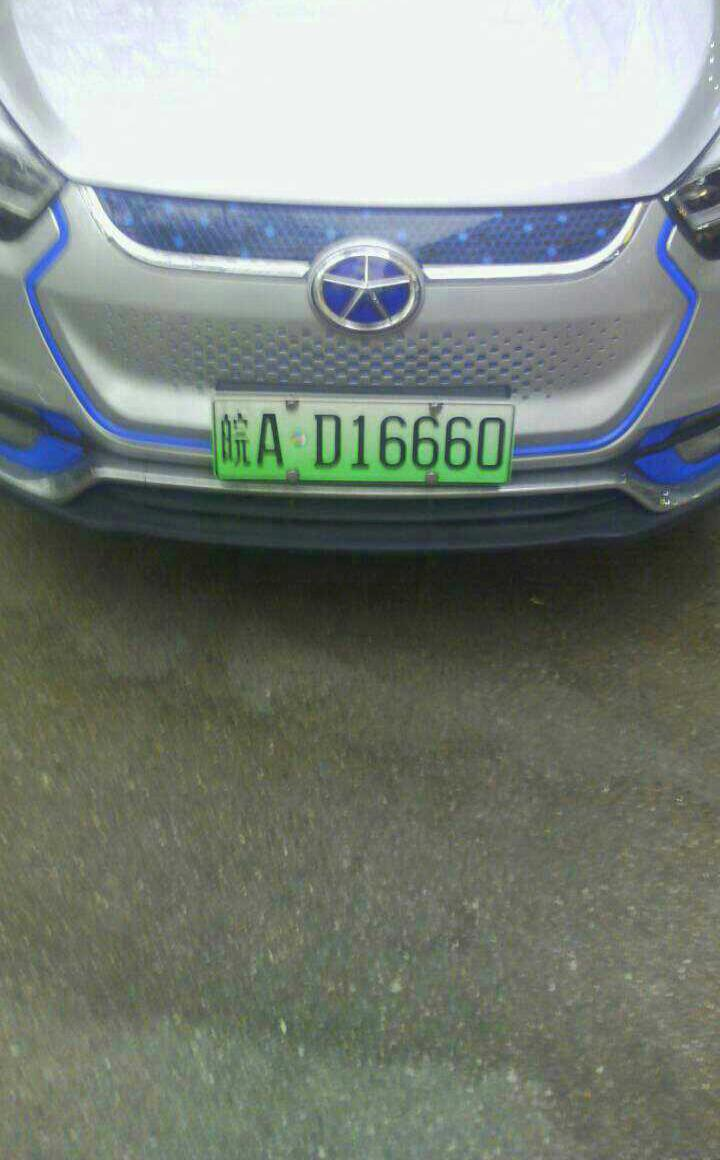car_id: (210, 396, 516, 484)
